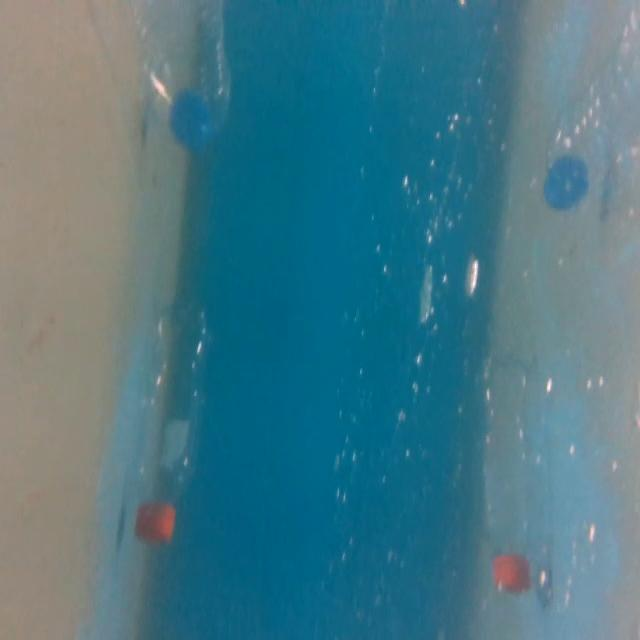plastic bottle: (127, 285, 214, 551), (126, 1, 236, 157)
